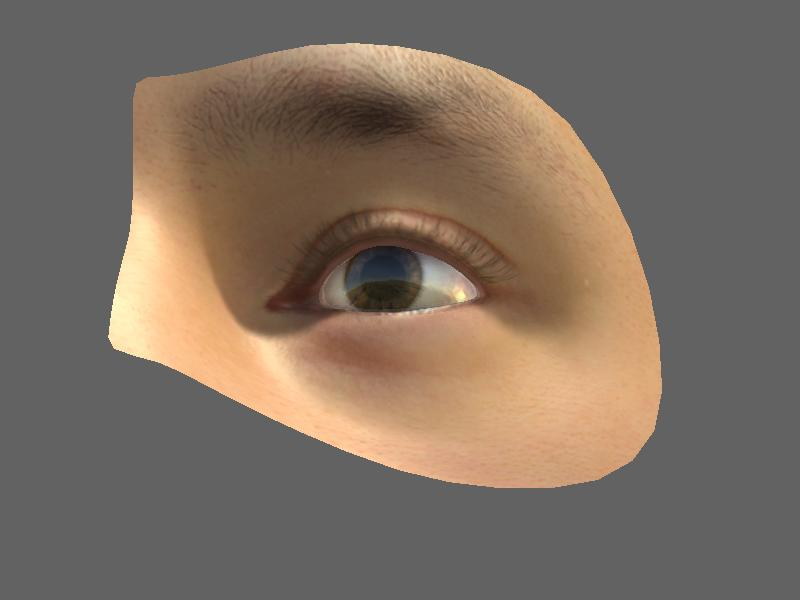iris: (346, 240, 428, 316)
